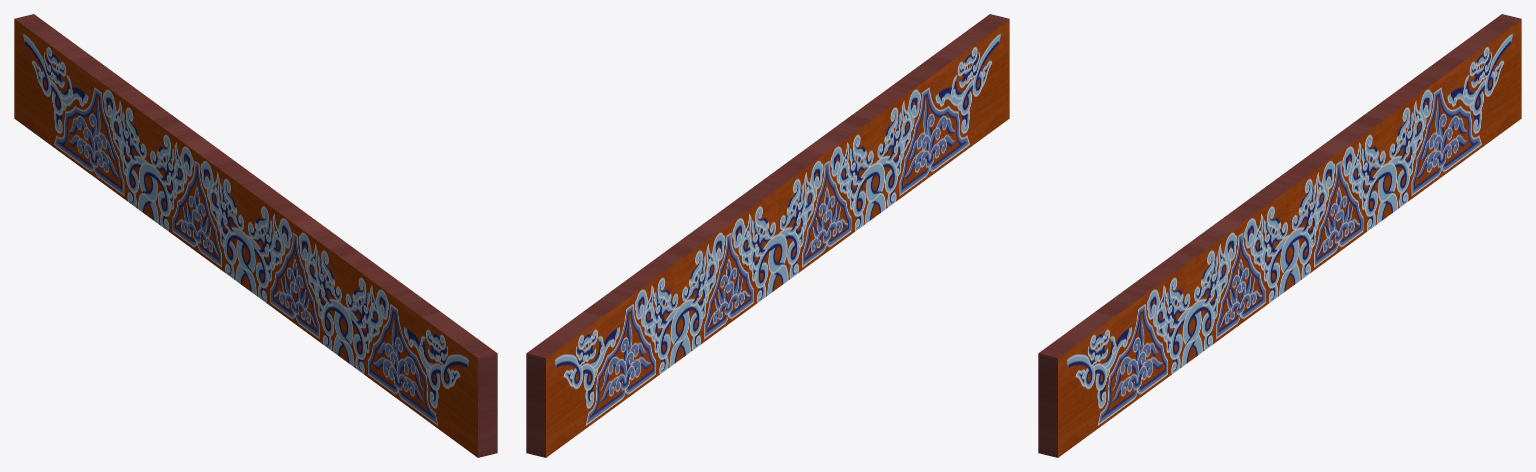
Rendered from SM_Hwaban05I.fbx.
3 renders of one model, left to right at view 1: azimuth 30°, elevation 25°; view 2: azimuth 150°, elevation 25°; view 3: azimuth 330°, elevation 25°, orthographic.
Visible parts, largest first — view 1: SM_Hwaban05I; view 2: SM_Hwaban05I; view 3: SM_Hwaban05I.
Part boxes in pixels (x1,y1,x2,y2): SM_Hwaban05I: [14, 14, 497, 457]; SM_Hwaban05I: [526, 14, 1009, 457]; SM_Hwaban05I: [1038, 14, 1521, 457].
Size of the model in its own units: 6.75 by 274 by 32.53.
